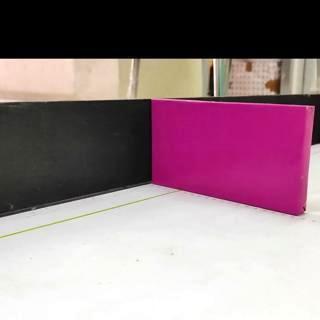xparking: (153, 109, 307, 202)
